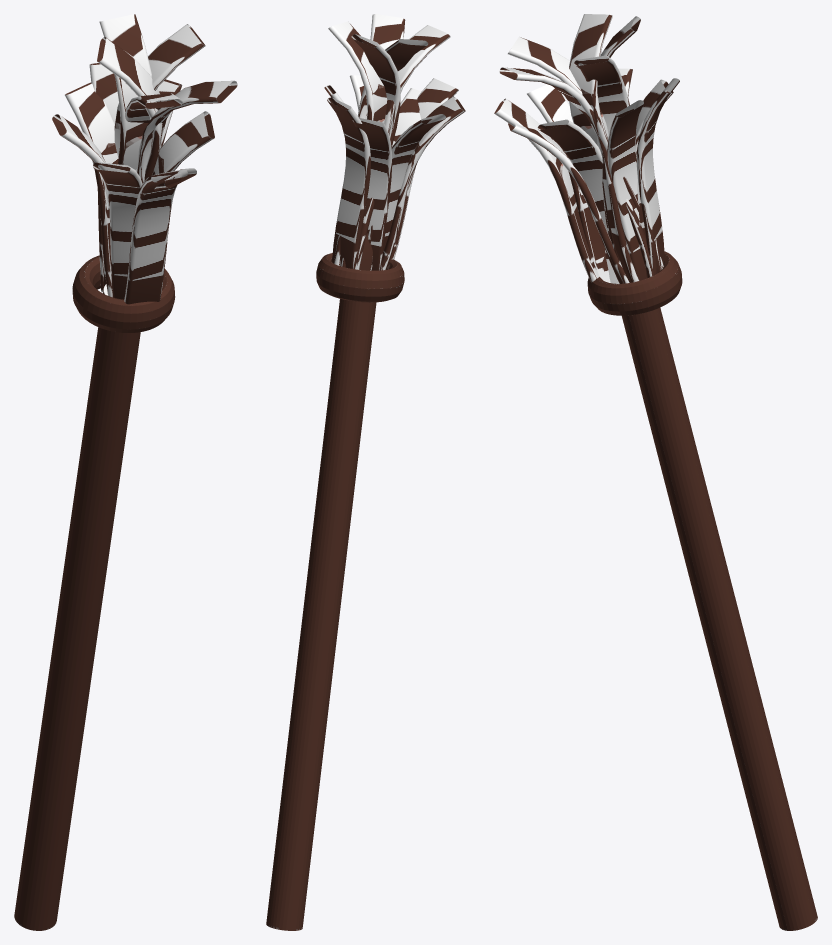
The model's file is extraBruja.obj.
3 views of the same model, side by side, from view 1: azimuth 30°, elevation 25°; view 2: azimuth 150°, elevation 25°; view 3: azimuth 270°, elevation 25° (orthographic). The views are drawn at different scales.
Visible parts, largest first — view 1: Palo, Curva_Bezier.009, Cinta, Curva_Bezier.010, Curva_Bezier.012, Pelos_escoba, Curva_Bezier, Curva_Bezier.002, Curva_Bezier.003, Curva_Bezier.007, Curva_Bezier.005, Curva_Bezier.004 (+1 smaller); view 2: Palo, Curva_Bezier.005, Cinta, Curva_Bezier.012, Curva_Bezier.002, Pelos_escoba, Curva_Bezier.011, Curva_Bezier.010, Curva_Bezier, Curva_Bezier.004, Curva_Bezier.009, Curva_Bezier.003 (+1 smaller); view 3: Palo, Curva_Bezier.006, Cinta, Curva_Bezier, Curva_Bezier.005, Curva_Bezier.003, Curva_Bezier.007, Curva_Bezier.009, Curva_Bezier.010, Curva_Bezier.002, Curva_Bezier.008, Curva_Bezier.004 (+1 smaller).
Boxes of the visible parts, left/top/right/bottom form: Palo: left=14, top=284, right=140, bottom=930; Curva_Bezier.009: left=124, top=169, right=187, bottom=304; Cinta: left=72, top=255, right=175, bottom=332; Curva_Bezier.010: left=93, top=162, right=142, bottom=299; Curva_Bezier.012: left=64, top=82, right=118, bottom=297; Pelos_escoba: left=99, top=14, right=151, bottom=286; Curva_Bezier: left=97, top=37, right=163, bottom=180; Curva_Bezier.002: left=114, top=24, right=205, bottom=157; Curva_Bezier.003: left=137, top=80, right=237, bottom=183; Curva_Bezier.007: left=152, top=111, right=214, bottom=175; Curva_Bezier.005: left=89, top=63, right=118, bottom=292; Curva_Bezier.004: left=125, top=93, right=182, bottom=171; Palo: left=266, top=299, right=376, bottom=930; Curva_Bezier.005: left=327, top=97, right=370, bottom=269; Cinta: left=316, top=253, right=404, bottom=302; Curva_Bezier.012: left=352, top=118, right=392, bottom=270; Curva_Bezier.002: left=328, top=21, right=387, bottom=265; Pelos_escoba: left=331, top=34, right=400, bottom=269; Curva_Bezier.011: left=368, top=114, right=445, bottom=251; Curva_Bezier.010: left=381, top=96, right=465, bottom=270; Curva_Bezier: left=341, top=39, right=428, bottom=270; Curva_Bezier.004: left=367, top=25, right=450, bottom=270; Curva_Bezier.009: left=389, top=78, right=458, bottom=260; Curva_Bezier.003: left=365, top=14, right=405, bottom=119; Palo: left=622, top=308, right=817, bottom=930; Curva_Bezier.006: left=607, top=100, right=646, bottom=280; Cinta: left=587, top=251, right=682, bottom=315; Curva_Bezier: left=569, top=14, right=663, bottom=267; Curva_Bezier.005: left=636, top=78, right=679, bottom=274; Curva_Bezier.003: left=499, top=67, right=639, bottom=282; Curva_Bezier.007: left=537, top=119, right=622, bottom=283; Curva_Bezier.009: left=494, top=98, right=599, bottom=282; Curva_Bezier.010: left=527, top=84, right=610, bottom=282; Curva_Bezier.002: left=574, top=55, right=662, bottom=278; Curva_Bezier.008: left=508, top=123, right=629, bottom=283; Curva_Bezier.004: left=507, top=37, right=621, bottom=265.
Size of the model in its own units: 0.7217 by 5.01 by 1.63.
1 material, 1 textured.
